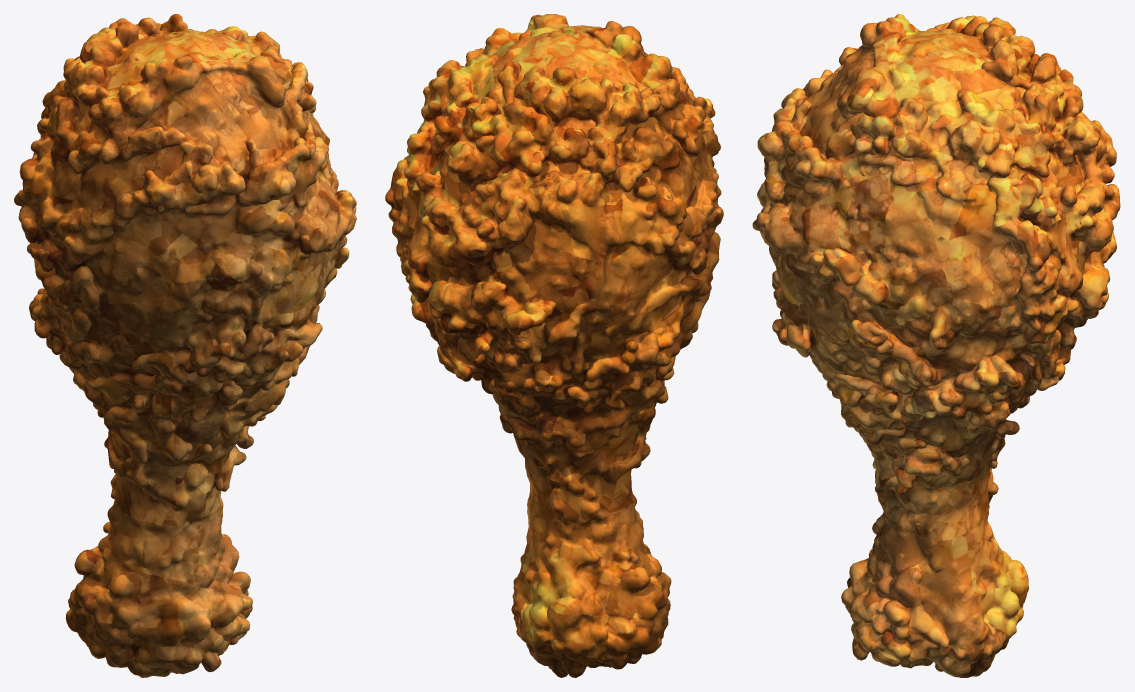
Rendered from chicken_fried.glb.
The picture shows the model from 3 angles, left to right: view 1: azimuth 30°, elevation 25°; view 2: azimuth 150°, elevation 25°; view 3: azimuth 270°, elevation 25°; orthographic projection. The views are drawn at different scales.
Visible parts, largest first — view 1: mesh_node.001; view 2: mesh_node.001; view 3: mesh_node.001.
Boxes of the visible parts, x1=… form: mesh_node.001: x1=14, y1=14, x2=356, y2=677; mesh_node.001: x1=385, y1=14, x2=723, y2=677; mesh_node.001: x1=752, y1=14, x2=1120, y2=677.
Bounding box in the file's own units: 0.9138 × 1.9 × 0.9748.
1 material, 1 textured.
